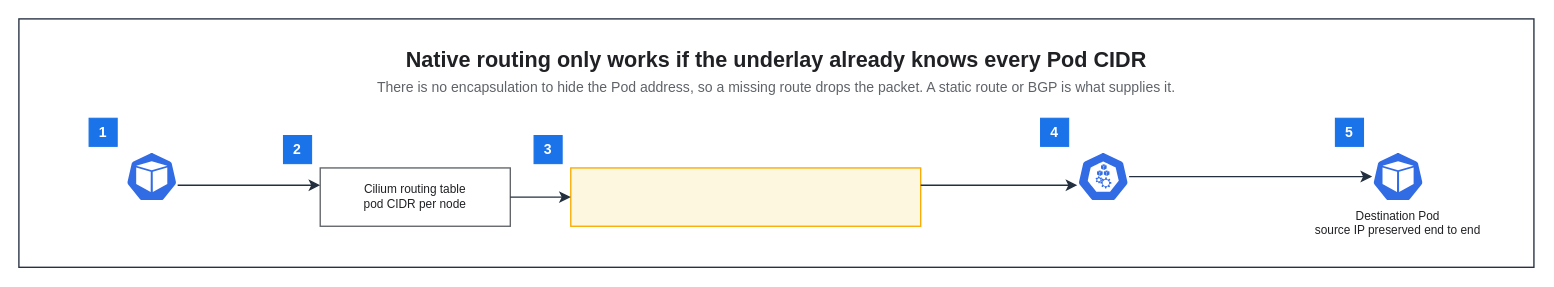
This 1554x287 diagram has some shape labels left out. Here are the shapes that lost their labels. From the top down, the centre of each, then its label:
At (151,176): "Source Pod packet leaves with the pod IP".
At (745,196): "Static route or BGP without it the packet is dropped, not tunnelled".
At (1103,176): "Remote node receives an unencapsulated packet".
